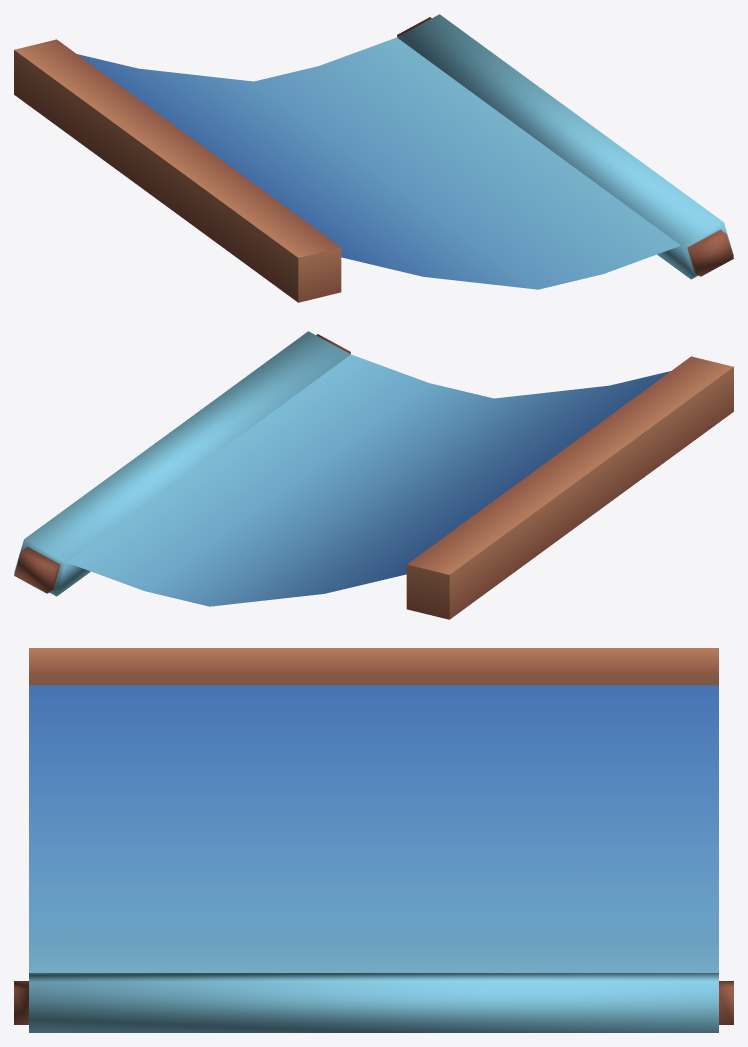
Rendered from Parasol01.fbx.
3 renders of one model, top to bottom at view 1: azimuth 30°, elevation 25°; view 2: azimuth 150°, elevation 25°; view 3: azimuth 270°, elevation 25°, orthographic. The views are drawn at different scales.
Visible parts, largest first — view 1: Parasol01; view 2: Parasol01; view 3: Parasol01.
Part boxes in pixels (x1=…): Parasol01: x1=14, y1=14, x2=733, y2=302; Parasol01: x1=14, y1=331, x2=733, y2=619; Parasol01: x1=14, y1=648, x2=733, y2=1032.
Size of the model in its own units: 0.8901 by 0.2294 by 1.05.
Materials: 1 (1 with a texture image).
